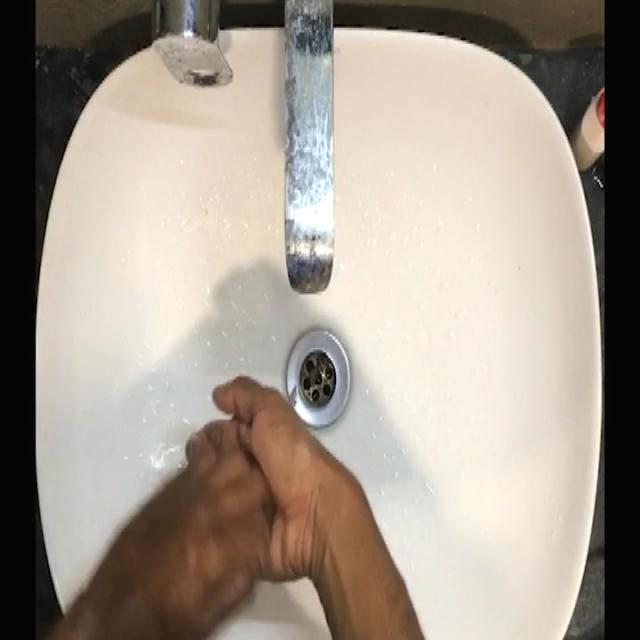step_4: (122, 360, 345, 632)
